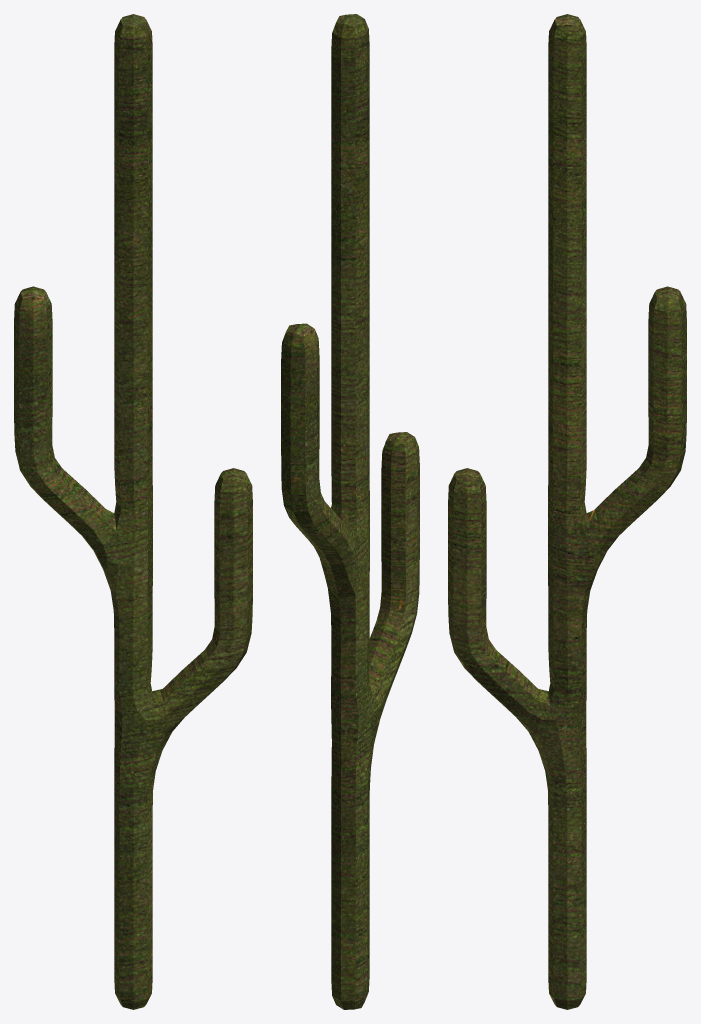
File: cactus 2.glb
The picture shows the model from 3 angles, left to right: view 1: azimuth 90°, elevation 25°; view 2: azimuth 150°, elevation 25°; view 3: azimuth 270°, elevation 25°; orthographic projection.
Parts seen in each view (by area): view 1: Plane.031; view 2: Plane.031; view 3: Plane.031.
Part boxes in pixels (<box>): Plane.031: <box>14,14,252,1009</box>; Plane.031: <box>281,14,419,1009</box>; Plane.031: <box>448,14,686,1009</box>.
Size of the model in its own units: 0.0412 by 1.09 by 0.2385.
1 material, 1 textured.
